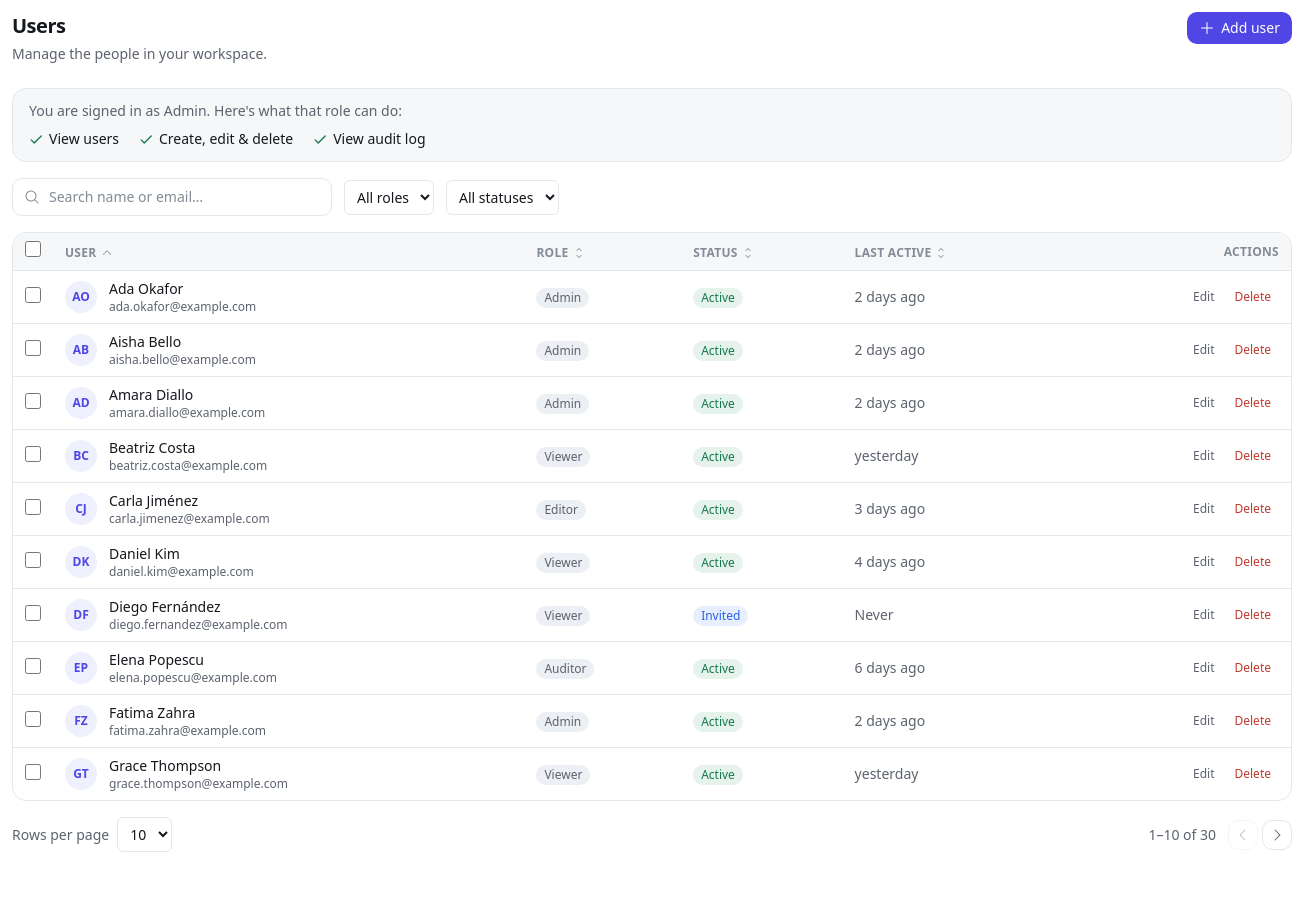
UsersPage › filters by status
This screenshot has width=1304, height=912.
Expected: the text "Ada Okafor" is shown, 109,279 -> 183,298
Select "Suspended" in the dropdown named "Filter by status" at (502,197), box 446,180 -> 559,214
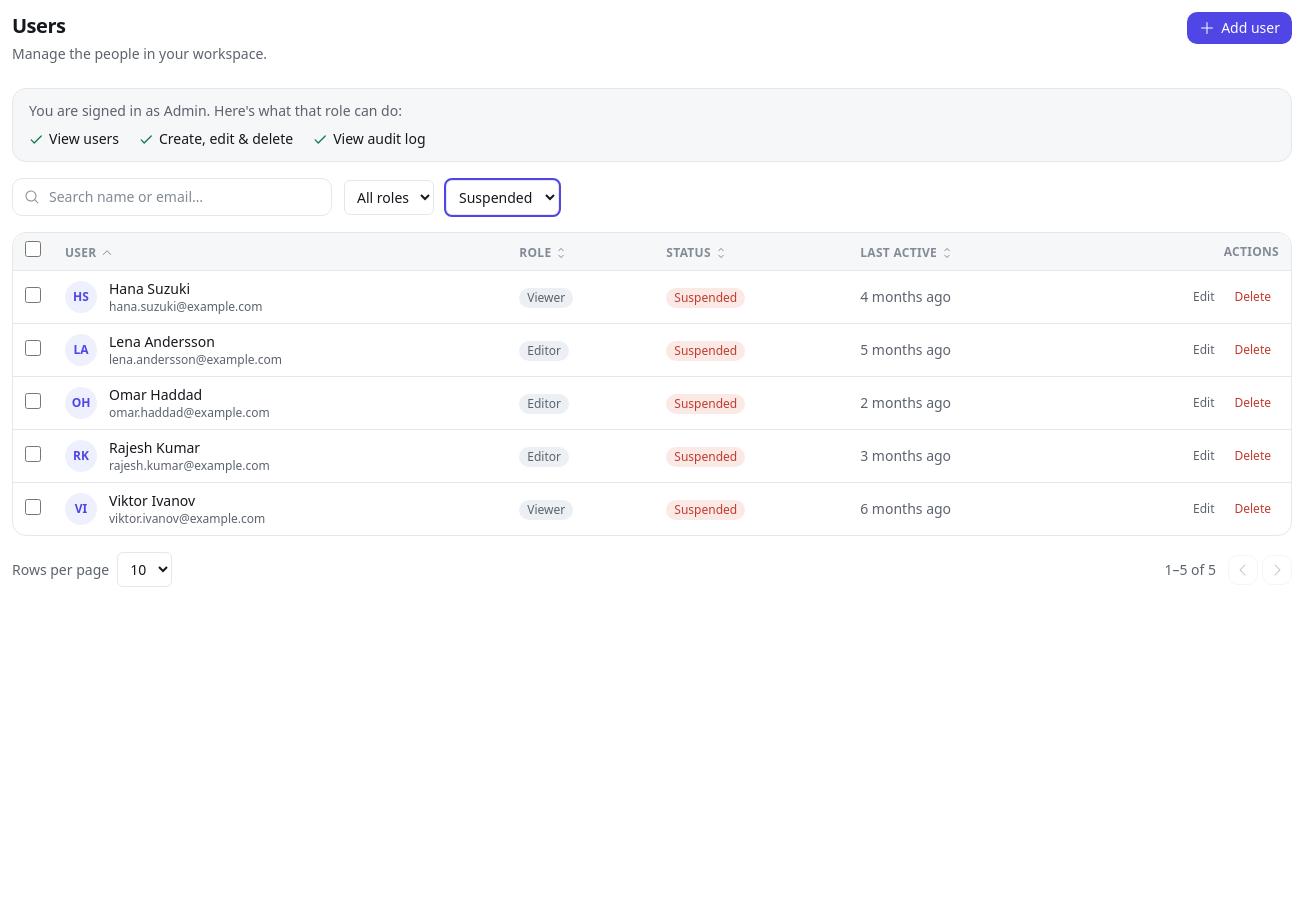
Result: the text "Omar Haddad" is shown at 109,385 -> 202,404
Result: the text "Ada Okafor" is gone
